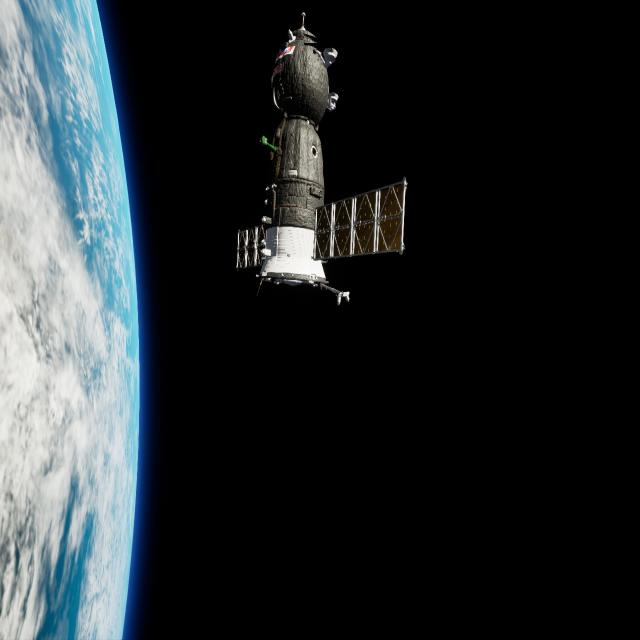Satellites revolving around earth: (1, 1, 141, 638), (233, 9, 409, 308)
